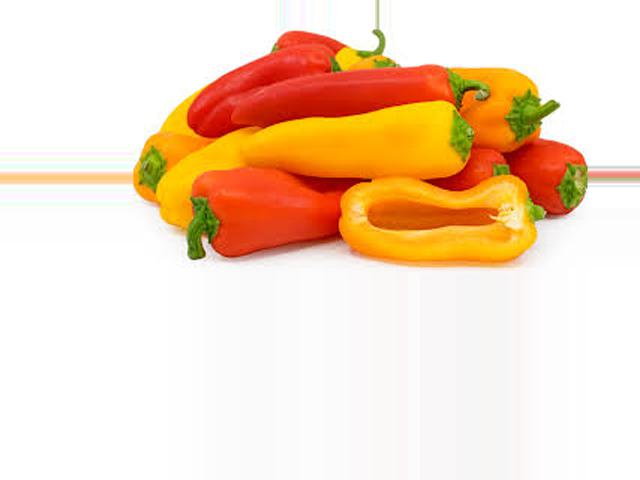bell_pepper: (459, 124, 589, 214)
